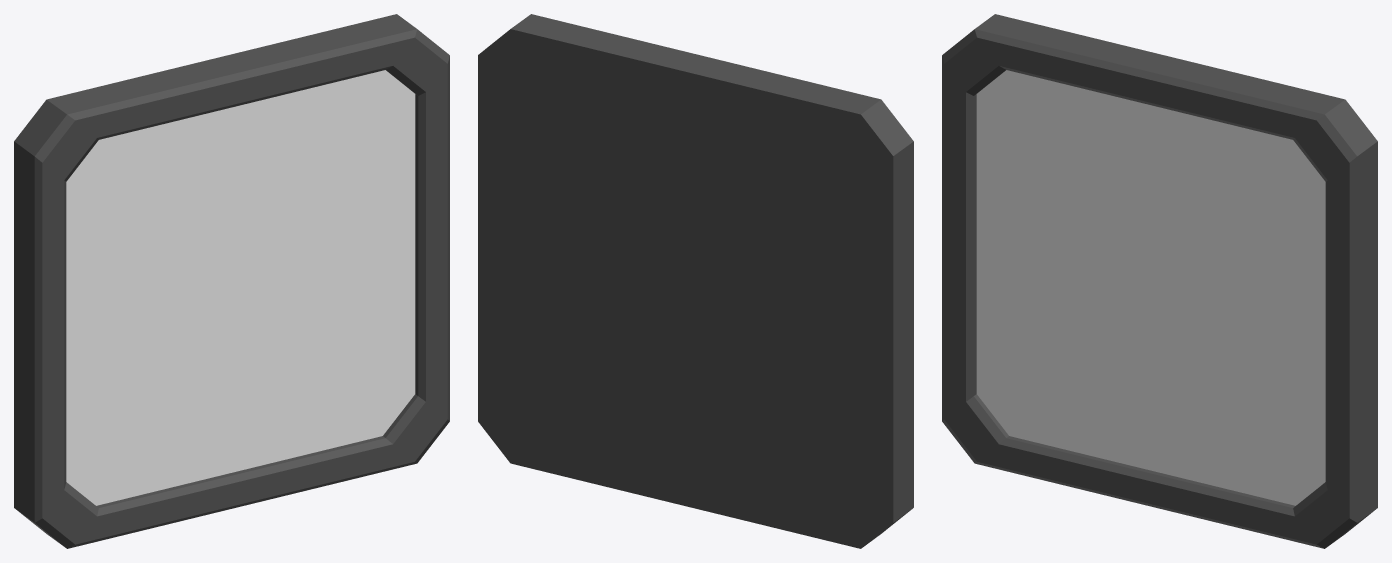
The model's file is Clock.glb.
The picture shows the model from 3 angles, left to right: view 1: azimuth 30°, elevation 25°; view 2: azimuth 150°, elevation 25°; view 3: azimuth 330°, elevation 25°; orthographic projection.
Parts seen in each view (by area): view 1: Clock; view 2: Clock; view 3: Clock.
Boxes of the visible parts, box(x1,y1,x2,y2) form: Clock: box(14, 14, 449, 548); Clock: box(478, 14, 913, 548); Clock: box(942, 14, 1377, 548).
Size of the model in its own units: 0.3809 by 0.3809 by 0.0372.
2 materials, 1 textured.
